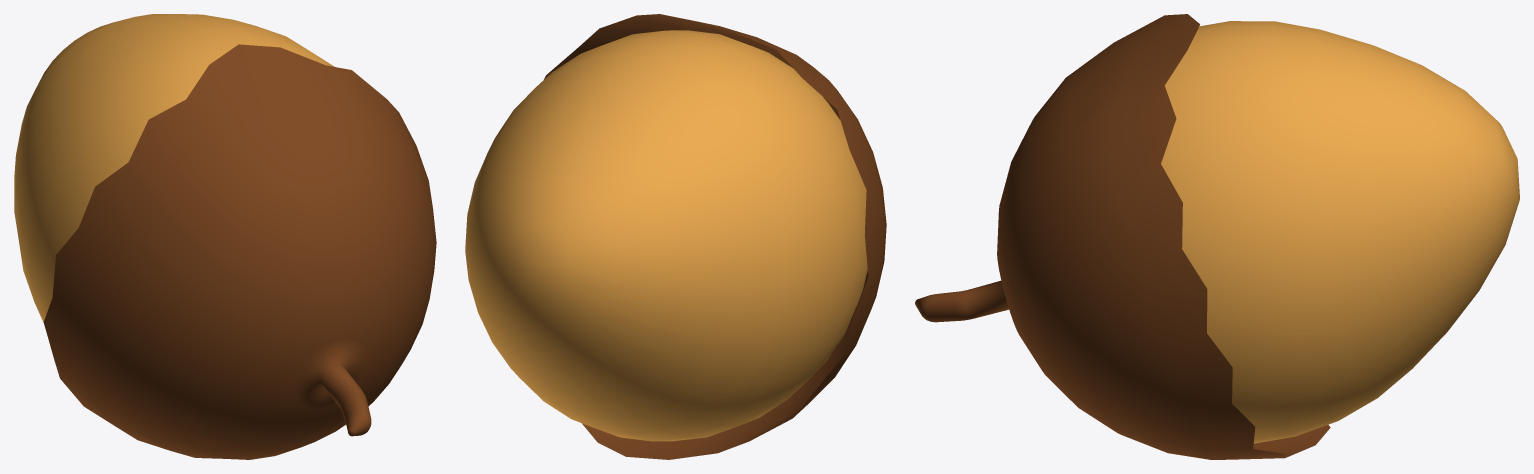
The model's file is ghianda.fbx.
The picture shows the model from 3 angles, left to right: view 1: azimuth 30°, elevation 25°; view 2: azimuth 150°, elevation 25°; view 3: azimuth 270°, elevation 25°; orthographic projection. The views are drawn at different scales.
Parts seen in each view (by area): view 1: ghianda; view 2: ghianda; view 3: ghianda.
Boxes of the visible parts, x1,y1,x2,y2 form: ghianda: [14, 14, 436, 459]; ghianda: [465, 14, 886, 459]; ghianda: [915, 14, 1519, 459].
Bounding box in the file's own units: 24.05 × 25.01 × 33.46.
